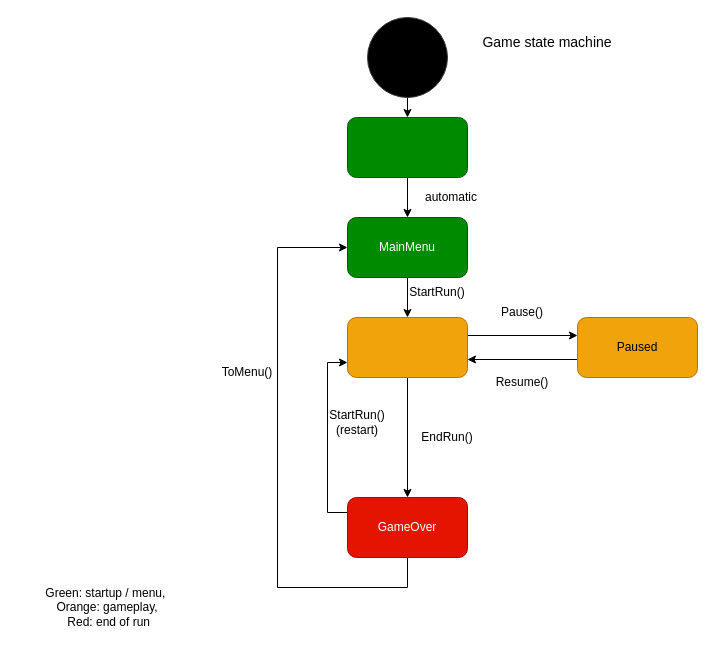
This 715x646 diagram has some shape labels left out. Here are the shapes that lost their labels. From the top down, the centre of each, then its label:
At (407,147): "Boot".
At (407,347): "Playing".
